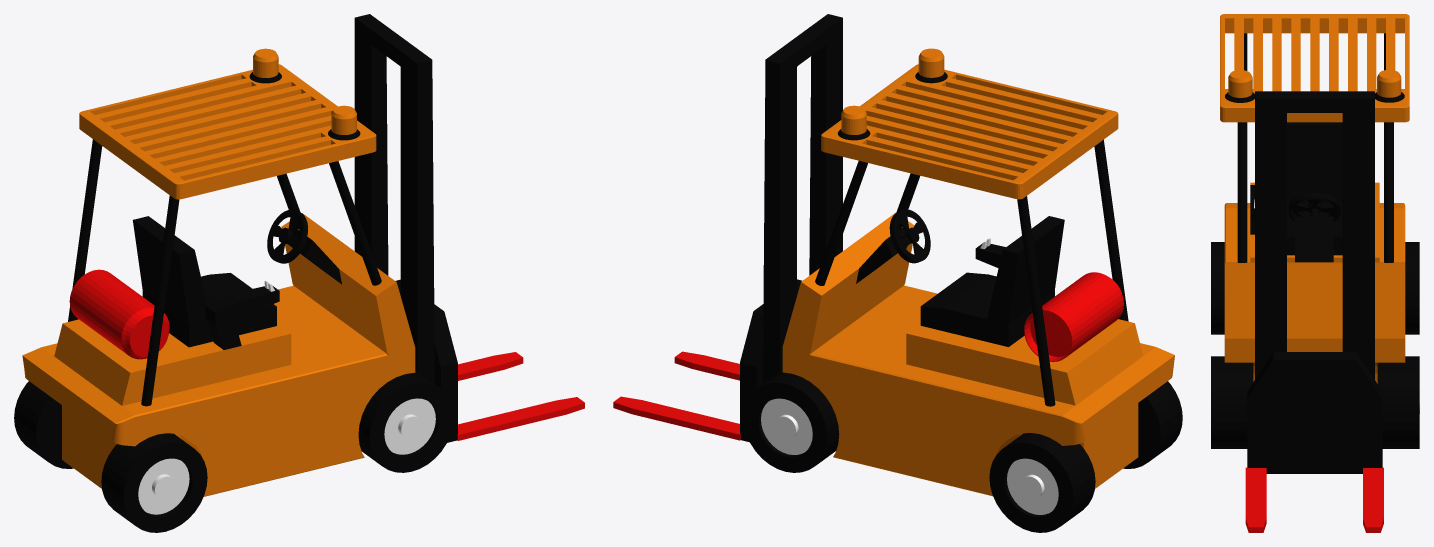
The model's file is Forklift.glb.
3 views of the same model, side by side, from view 1: azimuth 30°, elevation 25°; view 2: azimuth 150°, elevation 25°; view 3: azimuth 270°, elevation 25° (orthographic). The views are drawn at different scales.
Parts seen in each view (by area): view 1: Body, Supports, Roof, BackRightWheel, FrontWheels, Forks, Lights, BackLeftWheel, Axels; view 2: Body, Supports, Roof, BackLeftWheel, FrontWheels, Forks, Lights, BackRightWheel, Axels; view 3: Supports, Forks, Body, Roof, FrontWheels, Lights, BackLeftWheel, BackRightWheel.
Part boxes in pixels (x1,y1,x2,y2): Body: (22,213,415,496); Supports: (68,14,434,406); Roof: (79,64,376,199); BackRightWheel: (101,433,207,532); FrontWheels: (358,371,453,472); Forks: (395,279,584,442); Lights: (249,48,360,140); BackLeftWheel: (14,381,50,461); Axels: (36,397,73,468); Body: (782,212,1174,496); Supports: (763,14,1128,406); Roof: (821,64,1118,199); BackLeftWheel: (989,433,1095,532); FrontWheels: (743,370,839,472); Forks: (613,279,801,442); Lights: (837,48,947,140); BackRightWheel: (1146,381,1182,461); Axels: (1123,397,1160,468); Supports: (1237,34,1393,379); Forks: (1245,352,1383,532); Body: (1224,182,1405,383); Roof: (1220,14,1409,122); FrontWheels: (1211,356,1419,448); Lights: (1225,69,1404,102); BackLeftWheel: (1405,242,1419,334); BackRightWheel: (1211,242,1224,334).
Bounding box in the file's own units: 7.79 × 5.95 × 3.07.
Materials: 1 (1 with a texture image).
